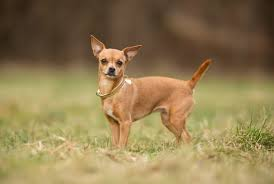chihuahua: (89, 33, 211, 147)
